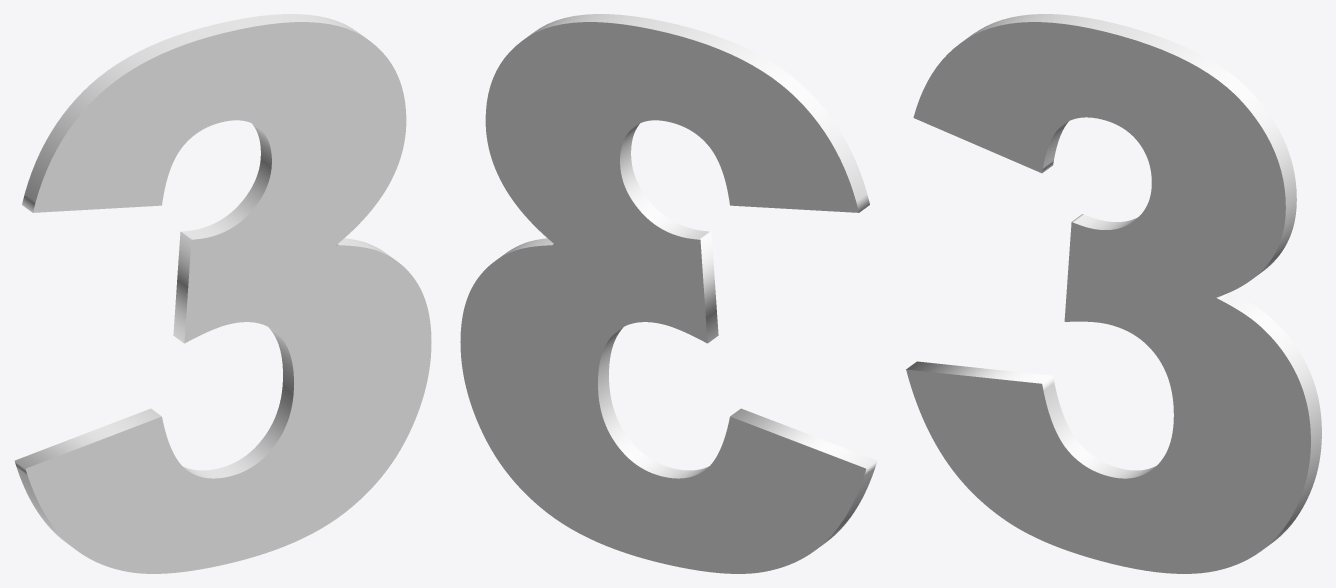
3 renders of one model, left to right at view 1: azimuth 30°, elevation 25°; view 2: azimuth 150°, elevation 25°; view 3: azimuth 330°, elevation 25°, orthographic.
Visible parts, largest first — view 1: テキスト; view 2: テキスト; view 3: テキスト.
Part boxes in pixels (x1=…): テキスト: x1=14, y1=14, x2=431, y2=573; テキスト: x1=460, y1=14, x2=877, y2=573; テキスト: x1=906, y1=14, x2=1321, y2=573.
Bounding box in the file's own units: 0.4254 × 0.5325 × 0.02.
